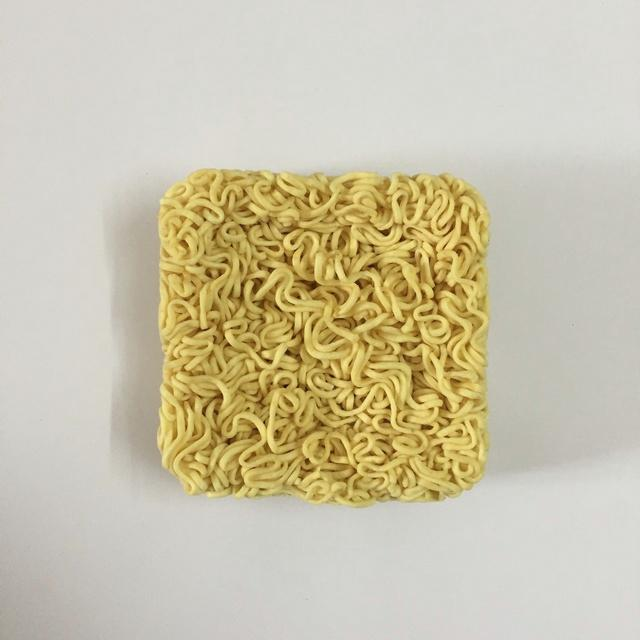noodles: (141, 161, 502, 522)
